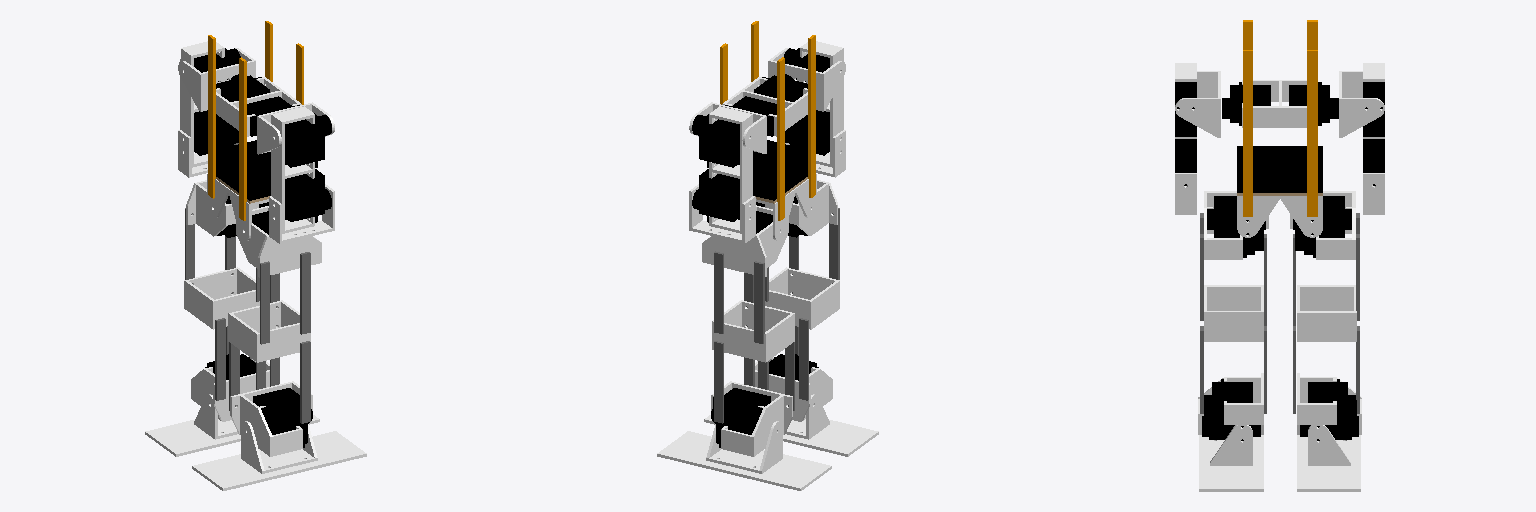
--- What the picture shows (computed from the rendered views, not written in the file) ---
The picture shows the robot from 3 angles, left to right: view 1: azimuth 30°, elevation 25°; view 2: azimuth 150°, elevation 25°; view 3: azimuth 270°, elevation 25°; orthographic projection.
Robot: b3w_walker — 28 links, 27 joints (22 revolute, 5 fixed); root link base_link; default pose: every joint at zero.
Visible links, largest first — view 1: body, r_upper_arm, r_foot, r_ankle, r_knee, l_upper_arm, l_knee, l_foot, r_thigh, l_ankle, l_thigh, l_shoulder (+9 smaller); view 2: body, l_upper_arm, l_foot, l_ankle, l_knee, r_upper_arm, r_knee, r_foot, l_thigh, r_ankle, r_thigh, r_shoulder (+9 smaller); view 3: body, r_foot, l_foot, r_ankle, r_knee, l_ankle, l_knee, l_thigh, r_thigh, r_upper_arm, l_upper_arm, r_shoulder (+7 smaller).
Boxes of the visible links, x1,y1,x2,y2 form: body: (207, 21, 303, 240); r_upper_arm: (271, 106, 331, 233); r_foot: (192, 421, 366, 490); r_ankle: (230, 381, 312, 456); r_knee: (228, 300, 310, 362); l_upper_arm: (180, 41, 240, 167); l_knee: (184, 267, 259, 329); l_foot: (145, 394, 319, 456); r_thigh: (236, 206, 321, 277); l_ankle: (191, 354, 269, 421); l_thigh: (186, 180, 268, 237); l_shoulder: (178, 48, 255, 111); body: (720, 21, 816, 240); l_upper_arm: (692, 106, 752, 233); l_foot: (657, 421, 831, 490); l_ankle: (711, 381, 792, 456); l_knee: (712, 300, 794, 362); r_upper_arm: (784, 41, 843, 167); r_knee: (765, 267, 839, 329); r_foot: (704, 394, 878, 456); l_thigh: (702, 205, 788, 276); r_ankle: (755, 354, 832, 421); r_thigh: (756, 180, 837, 237); r_shoulder: (768, 48, 845, 111); body: (1222, 20, 1338, 237); r_foot: (1199, 425, 1263, 491); l_foot: (1297, 425, 1360, 491); r_ankle: (1198, 373, 1263, 440); r_knee: (1204, 285, 1263, 341); l_ankle: (1297, 373, 1361, 440); l_knee: (1297, 285, 1356, 341); l_thigh: (1290, 191, 1355, 259); r_thigh: (1204, 191, 1268, 259); r_upper_arm: (1175, 63, 1196, 185); l_upper_arm: (1363, 63, 1384, 185); r_shoulder: (1175, 71, 1220, 137).
Bounding box of the posed robot: 0.16 × 0.196 × 0.4304 m (x, y, z).
Meshes: 35 distinct files referenced, 39 mesh visuals loaded (35 binary STL).

URDF robot description (b3w_walker):
<?xml version="1.0"?>
<robot name="b3w_walker">
  <gazebo>
    <plugin name="gazebo_ros_control" filename="libgazebo_ros_control.so">
      <robotNamespace>b3w_walker</robotNamespace>
      <robotParam>b3w_walker/robot_description</robotParam>
    </plugin>
    <static>false</static>
  </gazebo>

  <!-- <body/> -->
  <link name="base_link">
  </link>
  <joint name="base_link_fixed" type="fixed">
    <origin xyz="0 0 0" rpy="0 0 0"/>
    <parent link="base_link"/>
    <child link="body"/>
  </joint>
     
  <link name="body">
    <visual name="west">
      <origin xyz="33.5e-3 -54.5e-3 -43e-3" rpy="0 0 1.5707"/>
      <geometry>
      	<mesh filename="package://b3w_walker/models/b3w_walker/stl/body-west-1.STL" scale="1e-3 1e-3 1e-3"/>
      </geometry>
      <material name="brown">
	<color rgba="0.8235 0.7059 0.549 1"/>
      </material>
    </visual>
    <visual name="r_foot_joint">
      <origin xyz="33.5e-3 -54.5e-3 -43e-3" rpy="0 0 1.5707"/>
      <geometry>
      	<mesh filename="package://b3w_walker/models/b3w_walker/stl/body-r_foot_joint-1.STL" scale="1e-3 1e-3 1e-3"/>
      </geometry>
      <material name="white">
	<color rgba="1 1 1 1"/>
      </material>
    </visual>
    <visual name="l_foot_joint">
      <origin xyz="33.5e-3 -54.5e-3 -43e-3" rpy="0 0 1.5707"/>
      <geometry>
      	<mesh filename="package://b3w_walker/models/b3w_walker/stl/body-l_foot_joint-1.STL" scale="1e-3 1e-3 1e-3"/>
      </geometry>
      <material name="white">
	<color rgba="1 1 1 1"/>
      </material>
    </visual>
    <visual name="chest">
      <origin xyz="33.5e-3 -54.5e-3 -43e-3" rpy="0 0 1.5707"/>
      <geometry>
      	<mesh filename="package://b3w_walker/models/b3w_walker/stl/body-chest-1.STL" scale="1e-3 1e-3 1e-3"/>
      </geometry>
      <material name="white">
	<color rgba="1 1 1 1"/>
      </material>
    </visual>
    <visual name="type2-1">
      <origin xyz="33.5e-3 -54.5e-3 -43e-3" rpy="0 0 1.5707"/>
      <geometry>
      	<mesh filename="package://b3w_walker/models/b3w_walker/stl/body-type2-1.STL" scale="1e-3 1e-3 1e-3"/>
      </geometry>
      <material name="black">
	<color rgba="0 0 0 1"/>
      </material>
    </visual>
    <visual name="type2-2">
      <origin xyz="33.5e-3 -54.5e-3 -43e-3" rpy="0 0 1.5707"/>
      <geometry>
      	<mesh filename="package://b3w_walker/models/b3w_walker/stl/body-type2-2.STL" scale="1e-3 1e-3 1e-3"/>
      </geometry>
      <material name="black">
	<color rgba="0 0 0 1"/>
      </material>
    </visual>
    <visual name="pi">
      <origin xyz="33.5e-3 -54.5e-3 -43e-3" rpy="0 0 1.5707"/>
      <geometry>
      	<mesh filename="package://b3w_walker/models/b3w_walker/stl/body-pi-1.STL" scale="1e-3 1e-3 1e-3"/>
      </geometry>
      <material name="black">
	<color rgba="0 0 0 1"/>
      </material>
    </visual>
    <visual name="pole-1">
      <origin xyz="33.5e-3 -54.5e-3 -43e-3" rpy="0 0 1.5707"/>
      <geometry>
      	<mesh filename="package://b3w_walker/models/b3w_walker/stl/body-pole-1.STL" scale="1e-3 1e-3 1e-3"/>
      </geometry>
      <material name="orange">
	<color rgba="1 0.647 0 1"/>
      </material>
    </visual>
    <visual name="pole-2">
      <origin xyz="33.5e-3 -54.5e-3 -43e-3" rpy="0 0 1.5707"/>
      <geometry>
      	<mesh filename="package://b3w_walker/models/b3w_walker/stl/body-pole-2.STL" scale="1e-3 1e-3 1e-3"/>
      </geometry>
      <material name="orange">
	<color rgba="1 0.647 0 1"/>
      </material>
    </visual>
    <visual name="pole-3">
      <origin xyz="33.5e-3 -54.5e-3 -43e-3" rpy="0 0 1.5707"/>
      <geometry>
      	<mesh filename="package://b3w_walker/models/b3w_walker/stl/body-pole-3.STL" scale="1e-3 1e-3 1e-3"/>
      </geometry>
      <material name="orange">
	<color rgba="1 0.647 0 1"/>
      </material>
    </visual>
    <visual name="pole-4">
      <origin xyz="33.5e-3 -54.5e-3 -43e-3" rpy="0 0 1.5707"/>
      <geometry>

      	<mesh filename="package://b3w_walker/models/b3w_walker/stl/body-pole-4.STL" scale="1e-3 1e-3 1e-3"/>
      </geometry>
      <material name="orange">
	<color rgba="1 0.647 0 1"/>
      </material>
    </visual>
    <collision name="collision">
      <origin xyz="0 0 72e-3" rpy="0 0 0"/>
      <geometry>
	<box size="68e-3 80e-3 150e-3"/>
      </geometry>
    </collision>
    <inertial>
      <origin xyz="0.23e-3 0 38.29e-3" rpy="0 0 1.5707"/>
      <mass value="249.61e-3"/>
      <inertia ixx="469536.22e-9" iyy="555552.88e-9" izz="269099.12e-9" ixy="0" iyz="-2538.43e-9" ixz="0"/>
    </inertial>
  </link>
  <gazebo reference="body">
      <selfCollide>true</selfCollide>
  </gazebo>


  
  <!-- <right arm/> -->
  <joint name="r_shoulder_pitch" type="revolute">
    <origin xyz="10.5e-3 -54.5e-3 80e-3" rpy="0 0 0"/>
    <parent link="body"/>
    <child link="r_shoulder"/>
    <axis xyz="0 1 0"/>
    <limit effort="0.4" velocity="1.5707" lower="-1.5707" upper="1.5707" />
  </joint>
  <transmission name="tran_r_shoulder_pitch">
    <type>transmission_interface/SimpleTransmission</type>
    <joint name="r_shoulder_pitch">
      <hardwareInterface>hardware_interface/PositionJointInterface</hardwareInterface>
    </joint>
    <actuator name="motor_r_shoulder_pitch">
      <hardwareInterface>hardware_interface/PositionJointInterface</hardwareInterface>
      <mechanicalReduction>1</mechanicalReduction>
    </actuator>
  </transmission>

 <link name="r_shoulder">
    <visual name="r_shoulder">
      <origin xyz="21e-3 -43e-3 -20e-3" rpy="0 -1.5707 0"/>
      <geometry>
      	<mesh filename="package://b3w_walker/models/b3w_walker/stl/r_shoulder.STL" scale="1e-3 1e-3 1e-3"/>
      </geometry>
      <material name="white">
	<color rgba="1 1 1 1"/>
      </material>
    </visual>
    <collision name="collision">
      <origin xyz="-10e-3 -21.5e-3 0" rpy="0 0 0"/>
      <geometry>
	<box size="62e-3 43e-3 40e-3"/>
      </geometry>
    </collision>
    <inertial>
      <origin xyz="-10.06e-3 -9.9e-3 2.3e-3" rpy="0 -1.5707 0"/>
      <mass value="13.98e-3"/>
      <inertia ixx="10014.76e-9" iyy="9800.30e-9" izz="3544.51e-9" ixy="-523.71e-9" iyz="-18.93e-9" ixz="6.31e-9"/>
    </inertial>
  </link>
  <gazebo reference="r_shoulder">
      <selfCollide>true</selfCollide>
  </gazebo>

  <joint name="r_shoulder_roll" type="revolute">
    <origin xyz="18e-3 -33e-3 10e-3" rpy="0 0 0"/>
    <parent link="r_shoulder"/>
    <child link="r_upper_arm"/>
    <axis xyz="1 0 0"/>
    <limit effort="0.4" velocity="1.5707" lower="-1.5707" upper="0.3927" />
  </joint>
  <transmission name="tran_r_shoulder_roll">
    <type>transmission_interface/SimpleTransmission</type>
    <joint name="r_shoulder_roll">
      <hardwareInterface>hardware_interface/PositionJointInterface</hardwareInterface>
    </joint>
    <actuator name="motor_r_shoulder_roll">
      <hardwareInterface>hardware_interface/PositionJointInterface</hardwareInterface>
      <mechanicalReduction>1</mechanicalReduction>
    </actuator>
  </transmission>

  <link name="r_upper_arm">
    <visual name="upper_arm">
      <origin xyz="0 -10.5e-3 20e-3" rpy="0 1.5707 1.5707"/>
      <geometry>
      	<mesh filename="package://b3w_walker/models/b3w_walker/stl/arm-upper_arm-1.STL" scale="1e-3 1e-3 1e-3"/>
      </geometry>
      <material name="white">
	<color rgba="1 1 1 1"/>
      </material>
    </visual>
    <visual name="type2-1">
      <origin xyz="0 -10.5e-3 20e-3" rpy="0 1.5707 1.5707"/>
      <geometry>
      	<mesh filename="package://b3w_walker/models/b3w_walker/stl/arm-type2-1.STL" scale="1e-3 1e-3 1e-3"/>
      </geometry>
      <material name="black">
	<color rgba="0 0 0 1"/>
      </material>
    </visual>
    <visual name="type2-2">
      <origin xyz="0 -10.5e-3 20e-3" rpy="0 1.5707 1.5707"/>
      <geometry>
      	<mesh filename="package://b3w_walker/models/b3w_walker/stl/arm-type2-2.STL" scale="1e-3 1e-3 1e-3"/>
      </geometry>
      <material name="black">
	<color rgba="0 0 0 1"/>
      </material>
    </visual>
    <collision name="collision">
      <origin xyz="-37.5e-3 0 -39.31e-3" rpy="0 0 0"/>
      <geometry>
	<box size="37e-3 21e-3 119e-3"/>
      </geometry>
    </collision>
    <inertial>
      <origin xyz="-28.23e-3 0 -39.5e-3" rpy="0 1.5707 1.5707"/>
      <mass value="91.78e-3"/>
      <inertia ixx="21303.42e-9" iyy="107781.77e-9" izz="122945.47e-9" ixy="0" iyz="0" ixz="0"/>
    </inertial>
  </link>
  <gazebo reference="r_upper_arm">
      <selfCollide>true</selfCollide>
  </gazebo>

  <joint name="r_elbow_roll" type="revolute">
    <origin xyz="0 0 -79e-3" rpy="0 0 0"/>
    <parent link="r_upper_arm"/>
    <child link="r_lower_arm"/>
    <axis xyz="-1 0 0"/>
    <limit effort="0.4" velocity="1.5707" lower="-1.5707" upper="1.5707" />
  </joint>
  <transmission name="tran_r_elbow_roll">
    <type>transmission_interface/SimpleTransmission</type>
    <joint name="r_elbow_roll">
      <hardwareInterface>hardware_interface/PositionJointInterface</hardwareInterface>
    </joint>
    <actuator name="motor_r_elbow_roll">
      <hardwareInterface>hardware_interface/PositionJointInterface</hardwareInterface>
      <mechanicalReduction>1</mechanicalReduction>
    </actuator>
  </transmission>

    <link name="r_lower_arm">
    <visual name="box">
      <origin xyz="3e-3 -10.5e-3 -30e-3" rpy="1.5707 0 3.1415"/>
      <geometry>
	<mesh filename="package://b3w_walker/models/b3w_walker/stl/hinge.STL" scale="1e-3 1e-3 1e-3"/>
      </geometry>
      <material name="white">
	<color rgba="1 1 1 1"/>
      </material>
    </visual>
    <collision name="collision">
      <origin xyz="-28e-3 0 -9e-3" rpy="0 0 0"/>
      <geometry>
	<box size="62e-3 21e-3 42e-3"/>
      </geometry>
    </collision>
    <inertial>
      <origin xyz="-27.91e-3 0 -16.74e-3" rpy="1.5707 0 3.1415"/>
      <mass value="8.75e-3"/>
      <inertia ixx="1894.18e-9" iyy="5884.31e-9" izz="7125.94e-9" ixy="-13.72e-9" iyz="0" ixz="0"/>
    </inertial>
  </link>
  <gazebo reference="r_lower_arm">
      <selfCollide>true</selfCollide>
  </gazebo>

  <joint name="r_arm_fixed" type="fixed">
    <origin xyz="-28e-3 0 -30e-3" rpy="0 0 0"/>
    <parent link="r_lower_arm"/>
    <child link="r_arm_endcoords"/>
  </joint>
 
  <link name="r_arm_endcoords">
  </link>


  <!-- <left arm/> -->
  <joint name="l_shoulder_pitch" type="revolute">
    <origin xyz="10.5e-3 54.5e-3 80e-3" rpy="0 0 0"/>
    <parent link="body"/>
    <child link="l_shoulder"/>
    <axis xyz="0 -1 0"/>
    <limit effort="0.4" velocity="1.5707" lower="-1.5707" upper="1.5707" />
  </joint>
  <transmission name="tran_l_shoulder_pitch">
    <type>transmission_interface/SimpleTransmission</type>
    <joint name="l_shoulder_pitch">
      <hardwareInterface>hardware_interface/PositionJointInterface</hardwareInterface>
    </joint>
    <actuator name="motor_l_shoulder_pitch">
      <hardwareInterface>hardware_interface/PositionJointInterface</hardwareInterface>
      <mechanicalReduction>1</mechanicalReduction>
    </actuator>
  </transmission>

  <link name="l_shoulder">
    <visual name="l_shoulder">
      <origin xyz="21e-3 0 -20e-3" rpy="0 -1.5707 0"/>
      <geometry>
      	<mesh filename="package://b3w_walker/models/b3w_walker/stl/l_shoulder.STL" scale="1e-3 1e-3 1e-3"/>
      </geometry>
      <material name="white">
	<color rgba="1 1 1 1"/>
      </material>
    </visual>
    <collision name="collision">
      <origin xyz="-10e-3 21.5e-3 0" rpy="0 0 0"/>
      <geometry>
	<box size="62e-3 43e-3 40e-3"/>
      </geometry>
    </collision>
    <inertial>
      <origin xyz="-10.06e-3 9.9e-3 2.3e-3" rpy="0 -1.5707 0"/>
      <mass value="13.98e-3"/>
      <inertia ixx="10014.76e-9" iyy="9800.30e-9" izz="3544.51e-9" ixy="523.71e-9" iyz="18.93e-9" ixz="6.31e-9"/>
    </inertial>
  </link>
  <gazebo reference="l_shoulder">
      <selfCollide>true</selfCollide>
  </gazebo>

  <joint name="l_shoulder_roll" type="revolute">
    <origin xyz="18e-3 33e-3 10e-3" rpy="0 0 0"/>
    <parent link="l_shoulder"/>
    <child link="l_upper_arm"/>
    <axis xyz="1 0 0"/>
    <limit effort="0.4" velocity="1.5707" lower="-0.3927" upper="1.5707" />
  </joint>
  <transmission name="tran_l_shoulder_roll">
    <type>transmission_interface/SimpleTransmission</type>
    <joint name="l_shoulder_roll">
      <hardwareInterface>hardware_interface/PositionJointInterface</hardwareInterface>
    </joint>
    <actuator name="motor_l_shoulder_roll">
      <hardwareInterface>hardware_interface/PositionJointInterface</hardwareInterface>
      <mechanicalReduction>1</mechanicalReduction>
    </actuator>
  </transmission>

  <link name="l_upper_arm">
    <visual name="upper_arm">
      <origin xyz="0 -10.5e-3 20e-3" rpy="0 1.5707 1.5707"/>
      <geometry>
      	<mesh filename="package://b3w_walker/models/b3w_walker/stl/arm-upper_arm-1.STL" scale="1e-3 1e-3 1e-3"/>
      </geometry>
      <material name="white">
	<color rgba="1 1 1 1"/>
      </material>
    </visual>
    <visual name="type2-1">
      <origin xyz="0 -10.5e-3 20e-3" rpy="0 1.5707 1.5707"/>
      <geometry>
      	<mesh filename="package://b3w_walker/models/b3w_walker/stl/arm-type2-1.STL" scale="1e-3 1e-3 1e-3"/>
      </geometry>
      <material name="black">
	<color rgba="0 0 0 1"/>
      </material>
    </visual>
    <visual name="type2-2">
      <origin xyz="0 -10.5e-3 20e-3" rpy="0 1.5707 1.5707"/>
      <geometry>
      	<mesh filename="package://b3w_walker/models/b3w_walker/stl/arm-type2-2.STL" scale="1e-3 1e-3 1e-3"/>
      </geometry>
      <material name="black">
	<color rgba="0 0 0 1"/>
      </material>
    </visual>
    <collision name="collision">
      <origin xyz="-37.5e-3 0 -39.31e-3" rpy="0 0 0"/>
      <geometry>
	<box size="37e-3 21e-3 119e-3"/>
      </geometry>
    </collision>
    <inertial>
      <origin xyz="-28.23e-3 0 -39.5e-3" rpy="0 1.5707 1.5707"/>
      <mass value="91.78e-3"/>
      <inertia ixx="21303.42e-9" iyy="107781.77e-9" izz="122945.47e-9" ixy="0" iyz="0" ixz="0"/>
    </inertial>
  </link>
  <gazebo reference="l_upper_arm">
      <selfCollide>true</selfCollide>
  </gazebo>
  
  <joint name="l_elbow_roll" type="revolute">
    <origin xyz="0 0 -79e-3" rpy="0 0 0"/>
    <parent link="l_upper_arm"/>
    <child link="l_lower_arm"/>
    <axis xyz="-1 0 0"/>
    <limit effort="0.4" velocity="1.5707" lower="-1.5707" upper="1.5707" />
  </joint>
  <transmission name="tran_l_elbow_roll">
    <type>transmission_interface/SimpleTransmission</type>
    <joint name="l_elbow_roll">
      <hardwareInterface>hardware_interface/PositionJointInterface</hardwareInterface>
    </joint>
    <actuator name="motor_l_elbow_roll">
      <hardwareInterface>hardware_interface/PositionJointInterface</hardwareInterface>
      <mechanicalReduction>1</mechanicalReduction>
    </actuator>
  </transmission>

  <link name="l_lower_arm">
    <visual name="box">
      <origin xyz="3e-3 -10.5e-3 -30e-3" rpy="1.5707 0 3.1415"/>
      <geometry>
	<mesh filename="package://b3w_walker/models/b3w_walker/stl/hinge.STL" scale="1e-3 1e-3 1e-3"/>
      </geometry>
      <material name="white">
	<color rgba="1 1 1 1"/>
      </material>
    </visual>
    <collision name="collision">
      <origin xyz="-28e-3 0 -9e-3" rpy="0 0 0"/>
      <geometry>
	<box size="62e-3 21e-3 42e-3"/>
      </geometry>
    </collision>
    <inertial>
      <origin xyz="-27.91e-3 0 -16.74e-3" rpy="1.5707 0 3.1415"/>
      <mass value="8.75e-3"/>
      <inertia ixx="1894.18e-9" iyy="5884.31e-9" izz="7125.94e-9" ixy="-13.72e-9" iyz="0" ixz="0"/>
    </inertial>
  </link>
  <gazebo reference="l_lower_arm">
      <selfCollide>true</selfCollide>
  </gazebo>

  <joint name="l_arm_fixed" type="fixed">
    <origin xyz="-28e-3 0 -30e-3" rpy="0 0 0"/>
    <parent link="l_lower_arm"/>
    <child link="l_arm_endcoords"/>
  </joint>
 
  <link name="l_arm_endcoords">
  </link>
  





  <!-- <right leg/> -->
  <joint name="r_footjoint_roll" type="revolute">
    <origin xyz="28e-3 -30e-3 -33e-3" rpy="0 0 0"/>
    <parent link="body"/>
    <child link="r_thigh"/>
    <axis xyz="1 0 0"/>
    <limit effort="0.4" velocity="1.5707" lower="-0.7854" upper="0.7854" />
  </joint>
  <transmission name="tran_r_footjoint_roll">
    <type>transmission_interface/SimpleTransmission</type>
    <joint name="r_footjoint_roll">
      <hardwareInterface>hardware_interface/PositionJointInterface</hardwareInterface>
    </joint>
    <actuator name="motor_r_footjoint_roll">
      <hardwareInterface>hardware_interface/PositionJointInterface</hardwareInterface>
      <mechanicalReduction>1</mechanicalReduction>
    </actuator>
  </transmission>

  <link name="r_thigh">
    <visual name="r_thigh">
      <origin xyz="5e-3 20e-3 10.5e-3" rpy="0 3.1415 1.5707"/>
      <geometry>
      	<mesh filename="package://b3w_walker/models/b3w_walker/stl/r_thigh.STL" scale="1e-3 1e-3 1e-3"/>
      </geometry>
      <material name="white">
  	<color rgba="1 1 1 1"/>
      </material>
    </visual>
    <visual name="type2-1">
      <origin xyz="5e-3 20e-3 10.5e-3" rpy="0 3.1415 1.5707"/>
      <geometry>
      	<mesh filename="package://b3w_walker/models/b3w_walker/stl/r_thigh-type2-1.STL" scale="1e-3 1e-3 1e-3"/>
      </geometry>
      <material name="black">
  	<color rgba="0 0 0 1"/>
      </material>
    </visual>
    <visual name="type2-2">
      <origin xyz="5e-3 20e-3 10.5e-3" rpy="0 3.1415 1.5707"/>
      <geometry>
      	<mesh filename="package://b3w_walker/models/b3w_walker/stl/r_thigh-type2-2.STL" scale="1e-3 1e-3 1e-3"/>
      </geometry>
      <material name="black">
  	<color rgba="0 0 0 1"/>
      </material>
    </visual>
    <collision name="collision">
      <origin xyz="-30e-3 -10.5e-3 -10.5e-3" rpy="0 0 0"/>
      <geometry>
  	<box size="70e-3 61e-3 42e-3"/>
      </geometry>
    </collision>
    <inertial>
      <origin xyz="-27.04e-3 -11.99e-3 -10.54e-3" rpy="0 3.1415 1.5707"/>
      <mass value="95.76e-3"/>
      <inertia ixx="35785.97e-9" iyy="35507.30e-9" izz="44004.92e-9" ixy="1232.13e-9" iyz="-1392.7e-9" ixz="1621.84e-9"/>
    </inertial>
  </link>
  <gazebo reference="r_thigh">
      <selfCollide>true</selfCollide>
  </gazebo>

  <joint name="r_footjoint_pitch" type="revolute">
    <origin xyz="-15e-3 15e-3 -21e-3" rpy="0 0 0"/>
    <parent link="r_thigh"/>
    <child link="r_uf_bone"/>
    <axis xyz="0 -1 0"/>
    <limit effort="0.4" velocity="1.5707" lower="-1.5707" upper="1.5707" />
  </joint>
  <transmission name="tran_r_footjoint_pitch">
    <type>transmission_interface/SimpleTransmission</type>
    <joint name="r_footjoint_pitch">
      <hardwareInterface>hardware_interface/PositionJointInterface</hardwareInterface>
    </joint>
    <actuator name="motor_r_footjoint_pitch">
      <hardwareInterface>hardware_interface/PositionJointInterface</hardwareInterface>
      <mechanicalReduction>1</mechanicalReduction>
    </actuator>
  </transmission>

  <link name="r_uf_bone">
    <visual name="l_bone">
      <origin xyz="0 1.5e-3 -37.5e-3" rpy="0 0 0"/>
      <geometry>
      	<box size="10e-3 3e-3 85e-3"/>
      </geometry>
      <material name="grey">
  	<color rgba="0.5 0.5 0.5 1"/>
      </material>
    </visual>
    <visual name="r_bone">
      <origin xyz="0 -57.5e-3 -37.5e-3" rpy="0 0 0"/>
      <geometry>
      	<box size="10e-3 3e-3 85e-3"/>
      </geometry>
      <material name="grey">
  	<color rgba="0.5 0.5 0.5 1"/>
      </material>
    </visual>
    <collision name="collision">
      <origin xyz="0 -28e-3 -37.5e-3" rpy="0 0 0"/>
      <geometry>
      	<box size="10e-3 62e-3 85e-3"/>
      </geometry>
    </collision>
    <inertial>
      <origin xyz="0 -28e-3 -37.5e-3" rpy="0 0 0"/>
      <mass value="5.2e-3"/>
      <inertia ixx="7662.98e-9" iyy="3125.39e-9" izz="4574.29e-9" ixy="0" iyz="0" ixz="0"/>
    </inertial>
  </link>
  <gazebo reference="r_uf_bone">
      <selfCollide>true</selfCollide>
  </gazebo>

  <joint name="r_b_footjoint_pitch" type="revolute">
    <origin xyz="-60e-3 -41e-3 -21e-3" rpy="0 0 0"/>
    <parent link="r_thigh"/>
    <child link="r_ub_bone"/>
    <axis xyz="0 1 0"/>
    <limit effort="0" velocity="1.5707" lower="-1.5707" upper="1.5707" />
    <mimic joint="r_footjoint_pitch" multiplier="-1"/>
  </joint>
  <transmission name="tran_r_b_footjoint_pitch">
    <type>transmission_interface/SimpleTransmission</type>
    <joint name="r_b_footjoint_pitch">
      <hardwareInterface>hardware_interface/PositionJointInterface</hardwareInterface>
    </joint>
    <actuator name="motor_r_b_footjoint_pitch">
      <hardwareInterface>hardware_interface/PositionJointInterface</hardwareInterface>
      <mechanicalReduction>1</mechanicalReduction>
    </actuator>
  </transmission>

  <link name="r_ub_bone">
    <visual name="bone">
      <origin xyz="0 -1.5e-3 -37.5e-3" rpy="0 0 0"/>
      <geometry>
      	<box size="10e-3 3e-3 85e-3"/>
      </geometry>
      <material name="grey">
  	<color rgba="0.5 0.5 0.5 1"/>
      </material>
    </visual>
    <collision name="collision">
      <origin xyz="0 -1.5e-3 -37.5e-3" rpy="0 0 0"/>
      <geometry>
      	<box size="10e-3 3e-3 85e-3"/>
      </geometry>
    </collision>
    <inertial>
      <origin xyz="0 -1.5e-3 -37.5e-3" rpy="0 0 0"/>
      <mass value="2.6e-3"/>
      <inertia ixx="1567.69e-9" iyy="1587.97e-9" izz="23.63e-9" ixy="0" iyz="0" ixz="0"/>
    </inertial>
  </link>
  <gazebo reference="r_ub_bone">
      <selfCollide>true</selfCollide>
  </gazebo>
  
  <joint name="r_uf_knee" type="revolute">
    <origin xyz="0 0 -75e-3" rpy="0 0 0"/>
    <parent link="r_uf_bone"/>
    <child link="r_knee"/>
    <axis xyz="0 -1 0"/>
    <limit effort="0" velocity="1.5707" lower="-1.5707" upper="1.5707" />
    <mimic joint="r_footjoint_pitch" multiplier="-1"/>
  </joint>
  <transmission name="tran_r_uf_knee">
    <type>transmission_interface/SimpleTransmission</type>
    <joint name="r_uf_knee">
      <hardwareInterface>hardware_interface/PositionJointInterface</hardwareInterface>
    </joint>
    <actuator name="motor_r_uf_knee">
      <hardwareInterface>hardware_interface/PositionJointInterface</hardwareInterface>
      <mechanicalReduction>1</mechanicalReduction>
    </actuator>
  </transmission>

  <link name="r_knee">
    <visual name="r_knee">
      <origin xyz="-52.5e-3 -56e-3 -25e-3" rpy="1.5707 0 1.5707"/>
      <geometry>
      	<mesh filename="package://b3w_walker/models/b3w_walker/stl/r_knee.STL" scale="1e-3 1e-3 1e-3"/>
      </geometry>
      <material name="white">
  	<color rgba="1 1 1 1"/>
      </material>
    </visual>
    <collision name="collision">
      <origin xyz="-22.5e-3 -28e-3 -10e-3" rpy="0 0 0"/>
      <geometry>
  	<box size="60e-3 56e-3 30e-3"/>
      </geometry>
    </collision>
    <inertial>
      <origin xyz="-23.1e-3 -28e-3 -10e-3" rpy="1.5707 0 1.5707"/>
      <mass value="13.98e-3"/>
      <inertia ixx="12181.46e-9" iyy="20223.11e-9" izz="11307.47e-9" ixy="14.72e-9" iyz="0" ixz="0"/>
    </inertial>
  </link>
  <gazebo reference="r_knee">
      <selfCollide>true</selfCollide>
  </gazebo>

  <joint name="r_db_knee" type="revolute">
    <origin xyz="-45e-3 0 -20e-3" rpy="0 0 0"/>
    <parent link="r_knee"/>
    <child link="r_db_bone"/>
    <axis xyz="0 -1 0"/>
    <limit effort="0" velocity="1.5707" lower="-1.5707" upper="1.5707" />
    <mimic joint="r_ankle_pitch" multiplier="-1"/>
  </joint>
  <transmission name="tran_r_db_knee">
    <type>transmission_interface/SimpleTransmission</type>
    <joint name="r_db_knee">
      <hardwareInterface>hardware_interface/PositionJointInterface</hardwareInterface>
    </joint>
    <actuator name="motor_r_db_knee">
      <hardwareInterface>hardware_interface/PositionJointInterface</hardwareInterface>
      <mechanicalReduction>1</mechanicalReduction>
    </actuator>
  </transmission>

  <link name="r_db_bone">
    <visual name="bone">
      <origin xyz="0 1.5e-3 -37.5e-3" rpy="0 0 0"/>
      <geometry>
      	<box size="10e-3 3e-3 85e-3"/>
      </geometry>
      <material name="grey">
  	<color rgba="0.5 0.5 0.5 1"/>
      </material>
    </visual>
    <collision name="collision">
      <origin xyz="0 1.5e-3 -37.5e-3" rpy="0 0 0"/>
      <geometry>
      	<box size="10e-3 3e-3 85e-3"/>
      </geometry>
    </collision>
    <inertial>
      <origin xyz="0 1.5e-3 -37.5e-3" rpy="0 0 0"/>
      <mass value="2.6e-3"/>
      <inertia ixx="1567.69e-9" iyy="1587.97e-9" izz="23.63e-9" ixy="0" iyz="0" ixz="0"/>
    </inertial>
  </link>
  <gazebo reference="r_db_bone">
      <selfCollide>true</selfCollide>
  </gazebo>

  <joint name="r_df_knee" type="revolute">
    <origin xyz="0 -56e-3 -20e-3" rpy="0 0 0"/>
    <parent link="r_knee"/>
    <child link="r_df_bone"/>
    <axis xyz="0 -1 0"/>
    <limit effort="0" velocity="1.5707" lower="-1.5707" upper="1.5707" />
    <mimic joint="r_ankle_pitch" multiplier="-1"/>
  </joint>
  <transmission name="tran_r_df_knee">
    <type>transmission_interface/SimpleTransmission</type>
    <joint name="r_df_knee">
      <hardwareInterface>hardware_interface/PositionJointInterface</hardwareInterface>
    </joint>
    <actuator name="motor_r_df_knee">
      <hardwareInterface>hardware_interface/PositionJointInterface</hardwareInterface>
      <mechanicalReduction>1</mechanicalReduction>
    </actuator>
  </transmission>

  <link name="r_df_bone">
    <visual name="r_bone">
      <origin xyz="0 -1.5e-3 -37.5e-3" rpy="0 0 0"/>
      <geometry>
      	<box size="10e-3 3e-3 85e-3"/>
      </geometry>
      <material name="grey">
  	<color rgba="0.5 0.5 0.5 1"/>
      </material>
    </visual>
    <visual name="l_bone">
      <origin xyz="0 57.5e-3 -37.5e-3" rpy="0 0 0"/>
      <geometry>
      	<box size="10e-3 3e-3 85e-3"/>
      </geometry>
      <material name="grey">
  	<color rgba="0.5 0.5 0.5 1"/>
      </material>
    </visual>
    <collision name="collision">
      <origin xyz="0 28e-3 -37.5e-3" rpy="0 0 0"/>
      <geometry>
      	<box size="10e-3 62e-3 85e-3"/>
      </geometry>
    </collision>
    <inertial>
      <origin xyz="0 28e-3 -37.5e-3" rpy="0 0 0"/>
      <mass value="5.2e-3"/>
      <inertia ixx="7662.98e-9" iyy="3125.39e-9" izz="4574.29e-9" ixy="0" iyz="0" ixz="0"/>
    </inertial>
  </link>
  <gazebo reference="r_df_bone">
      <selfCollide>true</selfCollide>
  </gazebo>

  <joint name="r_ankle_pitch" type="revolute">
    <origin xyz="0 0 -75e-3" rpy="0 0 0"/>
    <parent link="r_df_bone"/>
    <child link="r_ankle"/>
    <axis xyz="0 -1 0"/>
    <limit effort="0.4" velocity="1.5707" lower="-1.5707" upper="1.5707" />
  </joint>
  <transmission name="tran_r_ankle_pitch">
    <type>transmission_interface/SimpleTransmission</type>
    <joint name="r_ankle_pitch">
      <hardwareInterface>hardware_interface/PositionJointInterface</hardwareInterface>
    </joint>
    <actuator name="motor_r_ankle_pitch">
      <hardwareInterface>hardware_interface/PositionJointInterface</hardwareInterface>
      <mechanicalReduction>1</mechanicalReduction>
    </actuator>
  </transmission>

  <link name="r_ankle">
    <visual name="r_ankle">
      <origin xyz="20e-3 -5e-3 -31.5e-3" rpy="0 0 1.5707"/>
      <geometry>
      	<mesh filename="package://b3w_walker/models/b3w_walker/stl/r_ankle.STL" scale="1e-3 1e-3 1e-3"/>
      </geometry>
      <material name="white">
  	<color rgba="1 1 1 1"/>
      </material>
    </visual>
    <visual name="type2-1">
      <origin xyz="20e-3 -5e-3 -31.5e-3" rpy="0 0 1.5707"/>
      <geometry>
      	<mesh filename="package://b3w_walker/models/b3w_walker/stl/r_ankle_type2-1.STL" scale="1e-3 1e-3 1e-3"/>
      </geometry>
      <material name="black">
  	<color rgba="0 0 0 1"/>
      </material>
    </visual>
    <visual name="type2-2">
      <origin xyz="20e-3 -5e-3 -31.5e-3" rpy="0 0 1.5707"/>
      <geometry>
      	<mesh filename="package://b3w_walker/models/b3w_walker/stl/r_ankle_type2-2.STL" scale="1e-3 1e-3 1e-3"/>
      </geometry>
      <material name="black">
  	<color rgba="0 0 0 1"/>
      </material>
    </visual>
    <collision name="collision">
      <origin xyz="-15e-3 30e-3 -10.5e-3" rpy="0 0 0"/>
      <geometry>
  	<box size="70e-3 61e-3 42e-3"/>
      </geometry>
    </collision>
    <inertial>
      <origin xyz="-12.08e-3 27.62e-3 -10.86e-3" rpy="0 0 1.5707"/>
      <mass value="96.15e-3"/>
      <inertia ixx="36875.99e-9" iyy="36382.18e-9" izz="44211.91e-9" ixy="-130.16e-9" iyz="-1342.61e-9" ixz="1097.22e-9"/>
    </inertial>
  </link>
  <gazebo reference="r_ankle">
      <selfCollide>true</selfCollide>
  </gazebo>
  
  <joint name="r_ankle_roll" type="revolute">
    <origin xyz="15e-3 36e-3 -20e-3" rpy="0 0 0"/>
    <parent link="r_ankle"/>
    <child link="r_foot"/>
    <axis xyz="-1 0 0"/>
    <limit effort="0.4" velocity="1.5707" lower="-0.3927" upper="0.3927" />
  </joint>
  <transmission name="tran_r_ankle_roll">
    <type>transmission_interface/SimpleTransmission</type>
    <joint name="r_ankle_roll">
      <hardwareInterface>hardware_interface/PositionJointInterface</hardwareInterface>
    </joint>
    <actuator name="motor_r_ankle_roll">
      <hardwareInterface>hardware_interface/PositionJointInterface</hardwareInterface>
      <mechanicalReduction>1</mechanicalReduction>
    </actuator>
  </transmission>

  <link name="r_foot">
    <visual name="r_foot">
      <origin xyz="-108e-3 -40e-3 -36e-3" rpy="0 0 0"/>
      <geometry>
      	<mesh filename="package://b3w_walker/models/b3w_walker/stl/r_bottom-r_foot-1.STL" scale="1e-3 1e-3 1e-3"/>
      </geometry>
      <material name="white">
  	<color rgba="1 1 1 1"/>
      </material>
    </visual>
    <visual name="r_foot_bottom">
      <origin xyz="-108e-3 -40e-3 -36e-3" rpy="0 0 0"/>
      <geometry>
      	<mesh filename="package://b3w_walker/models/b3w_walker/stl/r_bottom-bottom-1.STL" scale="1e-3 1e-3 1e-3"/>
      </geometry>
      <material name="white">
  	<color rgba="1 1 1 1"/>
      </material>
    </visual>
    <collision name="collision">
      <origin xyz="-28e-3 -10e-3 -33e-3" rpy="0 0 0"/>
      <geometry>
  	<box size="160e-3 60e-3 6e-3"/>
      </geometry>
    </collision>
    <inertial>
      <origin xyz="-28.02e-3 -9.26e-3 -30.82e-3" rpy="0 0 0"/>
      <mass value="43.42e-3"/>
      <inertia ixx="13643.46e-9" iyy="73903.25e-9" izz="81281.84e-9" ixy="-7.59e-9" iyz="771.74e-9" ixz="-25.56e-9"/>
    </inertial>
  </link>
  <gazebo reference="r_foot">
    <selfCollide>true</selfCollide>
    <mu1 value="1.0"/>
    <mu2 value="1.0"/>
  </gazebo>

  <joint name="r_foot_fixed" type="fixed">
    <origin xyz="-28e-3 -10e-3 -36e-3" rpy="0 0 0"/>
    <parent link="r_foot"/>
    <child link="r_foot_endcoords"/>
  </joint>
  <link name="r_foot_endcoords">
  </link>

  <!-- <left leg/> -->
  <joint name="l_footjoint_roll" type="revolute">
    <origin xyz="28e-3 30e-3 -33e-3" rpy="0 0 0"/>
    <parent link="body"/>
    <child link="l_thigh"/>
    <axis xyz="1 0 0"/>
    <limit effort="0.4" velocity="1.5707" lower="-0.7854" upper="0.7854" />
  </joint>
  <transmission name="tran_l_footjoint_roll">
    <type>transmission_interface/SimpleTransmission</type>
    <joint name="l_footjoint_roll">
      <hardwareInterface>hardware_interface/PositionJointInterface</hardwareInterface>
    </joint>
    <actuator name="motor_l_footjoint_roll">
      <hardwareInterface>hardware_interface/PositionJointInterface</hardwareInterface>
      <mechanicalReduction>1</mechanicalReduction>
    </actuator>
  </transmission>

  <link name="l_thigh">
    <visual name="l_thigh">
      <origin xyz="5e-3 41e-3 10.5e-3" rpy="0 3.1415 1.5707"/>
      <geometry>
      	<mesh filename="package://b3w_walker/models/b3w_walker/stl/l_thigh.STL" scale="1e-3 1e-3 1e-3"/>
      </geometry>
      <material name="white">
  	<color rgba="1 1 1 1"/>
      </material>
    </visual>
    <visual name="type2-3">
      <origin xyz="5e-3 41e-3 10.5e-3" rpy="0 3.1415 1.5707"/>
      <geometry>
      	<mesh filename="package://b3w_walker/models/b3w_walker/stl/l_thigh-type2-3.STL" scale="1e-3 1e-3 1e-3"/>
      </geometry>
      <material name="black">
  	<color rgba="0 0 0 1"/>
      </material>
    </visual>
    <visual name="type2-4">
      <origin xyz="5e-3 41e-3 10.5e-3" rpy="0 3.1415 1.5707"/>
      <geometry>
      	<mesh filename="package://b3w_walker/models/b3w_walker/stl/l_thigh-type2-4.STL" scale="1e-3 1e-3 1e-3"/>
      </geometry>
      <material name="black">
  	<color rgba="0 0 0 1"/>
      </material>
    </visual>
    <collision name="collision">
      <origin xyz="-30e-3 10.5e-3 -10.5e-3" rpy="0 0 0"/>
      <geometry>
  	<box size="70e-3 61e-3 42e-3"/>
      </geometry>
    </collision>
    <inertial>
      <origin xyz="-27.04e-3 11.99e-3 -10.54e-3" rpy="0 3.1415 1.5707"/>
      <mass value="95.76e-3"/>
      <inertia ixx="35785.97e-9" iyy="35507.30e-9" izz="44004.92e-9" ixy="-1232.13e-9" iyz="-1392.7e-9" ixz="-1621.84e-9"/>
    </inertial>
  </link>
  <gazebo reference="l_thigh">
      <selfCollide>true</selfCollide>
  </gazebo>

  <joint name="l_footjoint_pitch" type="revolute">
    <origin xyz="-15e-3 -15e-3 -21e-3" rpy="0 0 0"/>
    <parent link="l_thigh"/>
    <child link="l_uf_bone"/>
    <axis xyz="0 1 0"/>
    <limit effort="0.4" velocity="1.5707" lower="-1.5707" upper="1.5707" />
  </joint>
  <transmission name="tran_l_footjoint_pitch">
    <type>transmission_interface/SimpleTransmission</type>
    <joint name="l_footjoint_pitch">
      <hardwareInterface>hardware_interface/PositionJointInterface</hardwareInterface>
    </joint>
    <actuator name="motor_l_footjoint_pitch">
      <hardwareInterface>hardware_interface/PositionJointInterface</hardwareInterface>
      <mechanicalReduction>1</mechanicalReduction>
    </actuator>
  </transmission>

  <link name="l_uf_bone">
    <visual name="r_bone">
      <origin xyz="0 -1.5e-3 -37.5e-3" rpy="0 0 0"/>
      <geometry>
      	<box size="10e-3 3e-3 85e-3"/>
      </geometry>
      <material name="grey">
  	<color rgba="0.5 0.5 0.5 1"/>
      </material>
    </visual>
    <visual name="l_bone">
      <origin xyz="0 57.5e-3 -37.5e-3" rpy="0 0 0"/>
      <geometry>
      	<box size="10e-3 3e-3 85e-3"/>
      </geometry>
      <material name="grey">
  	<color rgba="0.5 0.5 0.5 1"/>
      </material>
    </visual>
    <collision name="collision">
      <origin xyz="0 28e-3 -37.5e-3" rpy="0 0 0"/>
      <geometry>
      	<box size="10e-3 62e-3 85e-3"/>
      </geometry>
    </collision>
    <inertial>
      <origin xyz="0 28e-3 -37.5e-3" rpy="0 0 0"/>
      <mass value="5.2e-3"/>
      <inertia ixx="7662.98e-9" iyy="3125.39e-9" izz="4574.29e-9" ixy="0" iyz="0" ixz="0"/>
    </inertial>
  </link>
  <gazebo reference="l_uf_bone">
      <selfCollide>true</selfCollide>
  </gazebo>

  <joint name="l_b_footjoint_pitch" type="revolute">
    <origin xyz="-60e-3 41e-3 -21e-3" rpy="0 0 0"/>
    <parent link="l_thigh"/>
    <child link="l_ub_bone"/>
    <axis xyz="0 -1 0"/>
    <limit effort="0" velocity="1.5707" lower="-1.5707" upper="1.5707" />
    <mimic joint="l_footjoint_pitch" multiplier="-1"/>
  </joint>
  <transmission name="tran_l_b_footjoint_pitch">
    <type>transmission_interface/SimpleTransmission</type>
    <joint name="l_b_footjoint_pitch">
      <hardwareInterface>hardware_interface/PositionJointInterface</hardwareInterface>
    </joint>
    <actuator name="motor_l_b_footjoint_pitch">
      <hardwareInterface>hardware_interface/PositionJointInterface</hardwareInterface>
      <mechanicalReduction>1</mechanicalReduction>
    </actuator>
  </transmission>

  <link name="l_ub_bone">
    <visual name="bone">
      <origin xyz="0 1.5e-3 -37.5e-3" rpy="0 0 0"/>
      <geometry>
      	<box size="10e-3 3e-3 85e-3"/>
      </geometry>
      <material name="grey">
  	<color rgba="0.5 0.5 0.5 1"/>
      </material>
    </visual>
    <collision name="collision">
      <origin xyz="0 1.5e-3 -37.5e-3" rpy="0 0 0"/>
      <geometry>
      	<box size="10e-3 3e-3 85e-3"/>
      </geometry>
    </collision>
    <inertial>
      <origin xyz="0 1.5e-3 -37.5e-3" rpy="0 0 0"/>
      <mass value="2.6e-3"/>
      <inertia ixx="1567.69e-9" iyy="1587.97e-9" izz="23.63e-9" ixy="0" iyz="0" ixz="0"/>
    </inertial>
  </link>
  <gazebo reference="l_ub_bone">
      <selfCollide>true</selfCollide>
  </gazebo>

  <joint name="l_uf_knee" type="revolute">
    <origin xyz="0 0 -75e-3" rpy="0 0 0"/>
    <parent link="l_uf_bone"/>
    <child link="l_knee"/>
    <axis xyz="0 1 0"/>
    <limit effort="0" velocity="1.5707" lower="-1.5707" upper="1.5707" />
    <mimic joint="l_footjoint_pitch" multiplier="-1"/>
  </joint>
  <transmission name="tran_l_uf_knee">
    <type>transmission_interface/SimpleTransmission</type>
    <joint name="l_uf_knee">
      <hardwareInterface>hardware_interface/PositionJointInterface</hardwareInterface>
    </joint>
    <actuator name="motor_l_uf_knee">
      <hardwareInterface>hardware_interface/PositionJointInterface</hardwareInterface>
      <mechanicalReduction>1</mechanicalReduction>
    </actuator>
  </transmission>

  <link name="l_knee">
    <visual name="l_knee">
      <origin xyz="-52.5e-3 0 -25e-3" rpy="1.5707 0 1.5707"/>
      <geometry>
      	<mesh filename="package://b3w_walker/models/b3w_walker/stl/l_knee.STL" scale="1e-3 1e-3 1e-3"/>
      </geometry>
      <material name="white">
  	<color rgba="1 1 1 1"/>
      </material>
    </visual>
    <collision name="collision">
      <origin xyz="-22.5e-3 28e-3 -10e-3" rpy="0 0 0"/>
      <geometry>
  	<box size="60e-3 56e-3 30e-3"/>
      </geometry>
    </collision>
    <inertial>
      <origin xyz="-23.1e-3 28e-3 -10e-3" rpy="1.5707 0 1.5707"/>
      <mass value="13.98e-3"/>
      <inertia ixx="12181.46e-9" iyy="20223.11e-9" izz="11307.47e-9" ixy="-14.72e-9" iyz="0" ixz="0"/>
    </inertial>
  </link>
  <gazebo reference="l_knee">
      <selfCollide>true</selfCollide>
  </gazebo>

  <joint name="l_db_knee" type="revolute">
    <origin xyz="-45e-3 0 -20e-3" rpy="0 0 0"/>
    <parent link="l_knee"/>
    <child link="l_db_bone"/>
    <axis xyz="0 1 0"/>
    <limit effort="0" velocity="1.5707" lower="-1.5707" upper="1.5707" />
    <mimic joint="l_ankle_pitch" multiplier="-1"/>
  </joint>
  <transmission name="tran_l_db_knee">
    <type>transmission_interface/SimpleTransmission</type>
    <joint name="l_db_knee">
      <hardwareInterface>hardware_interface/PositionJointInterface</hardwareInterface>
    </joint>
    <actuator name="motor_l_db_knee">
      <hardwareInterface>hardware_interface/PositionJointInterface</hardwareInterface>
      <mechanicalReduction>1</mechanicalReduction>
    </actuator>
  </transmission>

  <link name="l_db_bone">
    <visual name="bone">
      <origin xyz="0 -1.5e-3 -37.5e-3" rpy="0 0 0"/>
      <geometry>
      	<box size="10e-3 3e-3 85e-3"/>
      </geometry>
      <material name="grey">
  	<color rgba="0.5 0.5 0.5 1"/>
      </material>
    </visual>
    <collision name="collision">
      <origin xyz="0 -1.5e-3 -37.5e-3" rpy="0 0 0"/>
      <geometry>
      	<box size="10e-3 3e-3 85e-3"/>
      </geometry>
    </collision>
    <inertial>
      <origin xyz="0 -1.5e-3 -37.5e-3" rpy="0 0 0"/>
      <mass value="2.6e-3"/>
      <inertia ixx="1567.69e-9" iyy="1587.97e-9" izz="23.63e-9" ixy="0" iyz="0" ixz="0"/>
    </inertial>
  </link>
  <gazebo reference="l_db_bone">
      <selfCollide>true</selfCollide>
  </gazebo>

  <joint name="l_df_knee" type="revolute">
    <origin xyz="0 56e-3 -20e-3" rpy="0 0 0"/>
    <parent link="l_knee"/>
    <child link="l_df_bone"/>
    <axis xyz="0 1 0"/>
    <limit effort="0" velocity="1.5707" lower="-1.5707" upper="1.5707" />
    <mimic joint="l_ankle_pitch" multiplier="-1"/>
  </joint>
  <transmission name="tran_l_df_knee">
    <type>transmission_interface/SimpleTransmission</type>
    <joint name="l_df_knee">
      <hardwareInterface>hardware_interface/PositionJointInterface</hardwareInterface>
    </joint>
    <actuator name="motor_l_df_knee">
      <hardwareInterface>hardware_interface/PositionJointInterface</hardwareInterface>
      <mechanicalReduction>1</mechanicalReduction>
    </actuator>
  </transmission>

  <link name="l_df_bone">
    <visual name="l_bone">
      <origin xyz="0 1.5e-3 -37.5e-3" rpy="0 0 0"/>
      <geometry>
      	<box size="10e-3 3e-3 85e-3"/>
      </geometry>
      <material name="grey">
  	<color rgba="0.5 0.5 0.5 1"/>
      </material>
    </visual>
    <visual name="r_bone">
      <origin xyz="0 -57.5e-3 -37.5e-3" rpy="0 0 0"/>
      <geometry>
      	<box size="10e-3 3e-3 85e-3"/>
      </geometry>
      <material name="grey">
  	<color rgba="0.5 0.5 0.5 1"/>
      </material>
    </visual>
    <collision name="collision">
      <origin xyz="0 -28e-3 -37.5e-3" rpy="0 0 0"/>
      <geometry>
      	<box size="10e-3 62e-3 85e-3"/>
      </geometry>
    </collision>
    <inertial>
      <origin xyz="0 -28e-3 -37.5e-3" rpy="0 0 0"/>
      <mass value="5.2e-3"/>
      <inertia ixx="7662.98e-9" iyy="3125.39e-9" izz="4574.29e-9" ixy="0" iyz="0" ixz="0"/>
    </inertial>
  </link>
  <gazebo reference="l_df_bone">
      <selfCollide>true</selfCollide>
  </gazebo>

  <joint name="l_ankle_pitch" type="revolute">
    <origin xyz="0 0 -75e-3" rpy="0 0 0"/>
    <parent link="l_df_bone"/>
    <child link="l_ankle"/>
    <axis xyz="0 1 0"/>
    <limit effort="0.4" velocity="1.5707" lower="-1.5707" upper="1.5707" />
  </joint>
  <transmission name="tran_l_ankle_pitch">
    <type>transmission_interface/SimpleTransmission</type>
    <joint name="l_ankle_pitch">
      <hardwareInterface>hardware_interface/PositionJointInterface</hardwareInterface>
    </joint>
    <actuator name="motor_l_ankle_pitch">
      <hardwareInterface>hardware_interface/PositionJointInterface</hardwareInterface>
      <mechanicalReduction>1</mechanicalReduction>
    </actuator>
  </transmission>

  <link name="l_ankle">
    <visual name="l_ankle">
      <origin xyz="20e-3 -56e-3 -31.5e-3" rpy="0 0 1.5707"/>
      <geometry>
      	<mesh filename="package://b3w_walker/models/b3w_walker/stl/l_ankle.STL" scale="1e-3 1e-3 1e-3"/>
      </geometry>
      <material name="white">
  	<color rgba="1 1 1 1"/>
      </material>
    </visual>
    <visual name="type2-4">
      <origin xyz="20e-3 -56e-3 -31.5e-3" rpy="0 0 1.5707"/>
      <geometry>
      	<mesh filename="package://b3w_walker/models/b3w_walker/stl/l_ankle_type2-4.STL" scale="1e-3 1e-3 1e-3"/>
      </geometry>
      <material name="black">
  	<color rgba="0 0 0 1"/>
      </material>
    </visual>
    <visual name="type2-5">
      <origin xyz="20e-3 -56e-3 -31.5e-3" rpy="0 0 1.5707"/>
      <geometry>
      	<mesh filename="package://b3w_walker/models/b3w_walker/stl/l_ankle_type2-5.STL" scale="1e-3 1e-3 1e-3"/>
      </geometry>
      <material name="black">
  	<color rgba="0 0 0 1"/>
      </material>
    </visual>
    <collision name="collision">
      <origin xyz="-15e-3 -30e-3 -10.5e-3" rpy="0 0 0"/>
      <geometry>
  	<box size="70e-3 61e-3 42e-3"/>
      </geometry>
    </collision>
    <inertial>
      <origin xyz="-12.08e-3 -27.62e-3 -10.86e-3" rpy="0 0 1.5707"/>
      <mass value="96.15e-3"/>
      <inertia ixx="36875.99e-9" iyy="36382.18e-9" izz="44211.91e-9" ixy="130.16e-9" iyz="-1342.61e-9" ixz="-1097.22e-9"/>
    </inertial>
  </link>
  <gazebo reference="l_ankle">
      <selfCollide>true</selfCollide>
  </gazebo>

  <joint name="l_ankle_roll" type="revolute">
    <origin xyz="15e-3 -36e-3 -20e-3" rpy="0 0 0"/>
    <parent link="l_ankle"/>
    <child link="l_foot"/>
    <axis xyz="-1 0 0"/>
    <limit effort="0.4" velocity="1.5707" lower="-0.3927" upper="0.3927" />
  </joint>
  <transmission name="tran_l_ankle_roll">
    <type>transmission_interface/SimpleTransmission</type>
    <joint name="l_ankle_roll">
      <hardwareInterface>hardware_interface/PositionJointInterface</hardwareInterface>
    </joint>
    <actuator name="motor_l_ankle_roll">
      <hardwareInterface>hardware_interface/PositionJointInterface</hardwareInterface>
      <mechanicalReduction>1</mechanicalReduction>
    </actuator>
  </transmission>

  <link name="l_foot">
    <visual name="l_foot">
      <origin xyz="-108e-3 -20e-3 -36e-3" rpy="0 0 0"/>
      <geometry>
      	<mesh filename="package://b3w_walker/models/b3w_walker/stl/l_bottom-r_foot-2.STL" scale="1e-3 1e-3 1e-3"/>
      </geometry>
      <material name="white">
  	<color rgba="1 1 1 1"/>
      </material>
    </visual>
    <visual name="l_foot_bottom">
      <origin xyz="-108e-3 -20e-3 -36e-3" rpy="0 0 0"/>
      <geometry>
      	<mesh filename="package://b3w_walker/models/b3w_walker/stl/l_bottom-bottom-2.STL" scale="1e-3 1e-3 1e-3"/>
      </geometry>
      <material name="white">
  	<color rgba="1 1 1 1"/>
      </material>
    </visual>
    <collision name="collision">
      <origin xyz="-28e-3 10e-3 -33e-3" rpy="0 0 0"/>
      <geometry>
  	<box size="160e-3 60e-3 6e-3"/>
      </geometry>
    </collision>
    <inertial>
      <origin xyz="-28.02e-3 9.26e-3 -30.82e-3" rpy="0 0 0"/>
      <mass value="43.42e-3"/>
      <inertia ixx="13643.46e-9" iyy="73903.25e-9" izz="81281.84e-9" ixy="7.59e-9" iyz="-771.74e-9" ixz="-25.56e-9"/>
    </inertial>
  </link>
  <gazebo reference="l_foot">
    <selfCollide>true</selfCollide>
    <mu1 value="1.0"/>
    <mu2 value="1.0"/>
  </gazebo>

  <joint name="l_foot_fixed" type="fixed">
    <origin xyz="-28e-3 10e-3 -36e-3" rpy="0 0 0"/>
    <parent link="l_foot"/>
    <child link="l_foot_endcoords"/>
  </joint>
  <link name="l_foot_endcoords">
  </link>



  
</robot>
